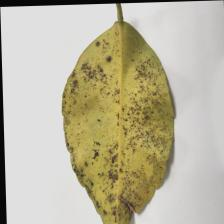canker: (86, 69, 163, 190)
